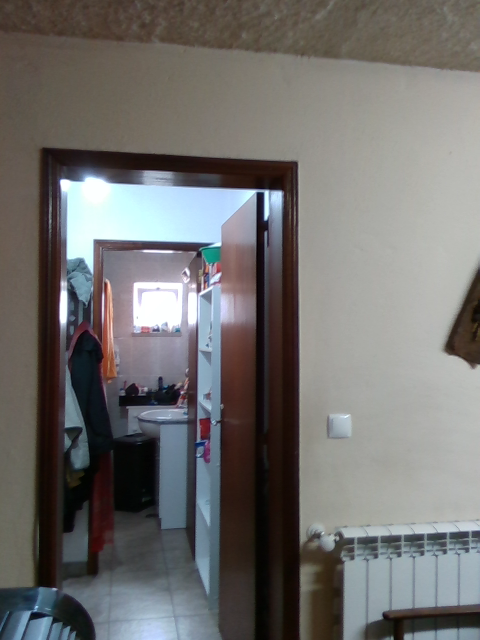open: (27, 142, 296, 639)
